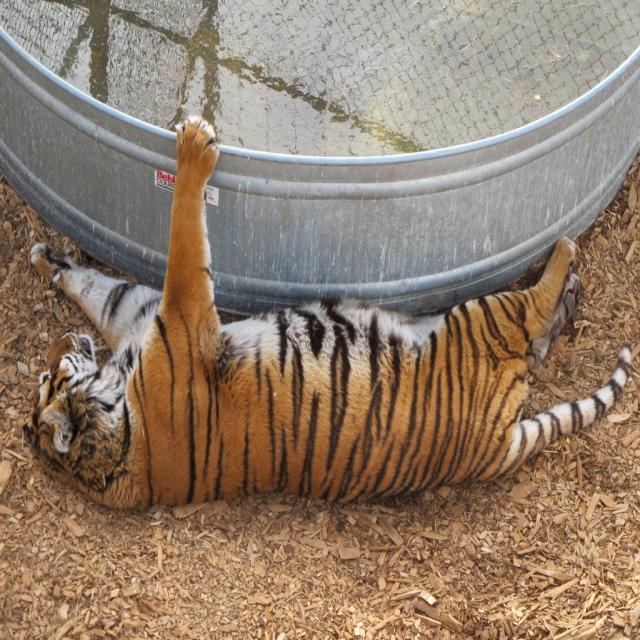Tiger: (27, 116, 632, 509)
